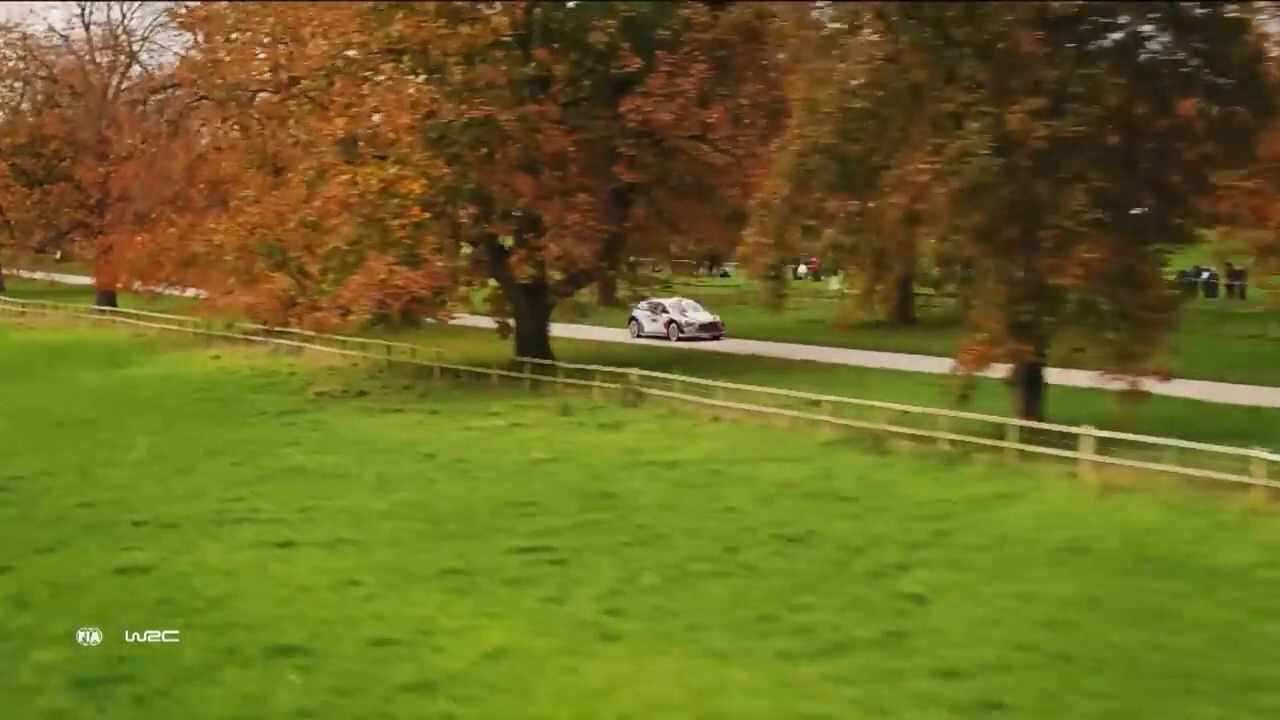araba: (625, 296, 728, 341)
